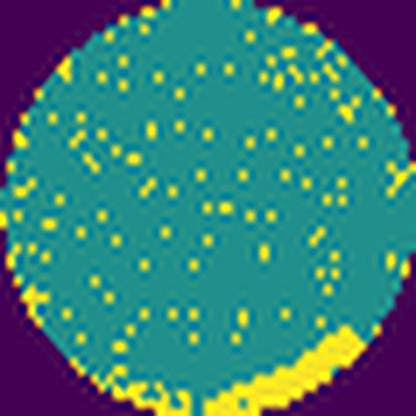Edge-Loc: (200, 318, 371, 416), (94, 376, 189, 416)
